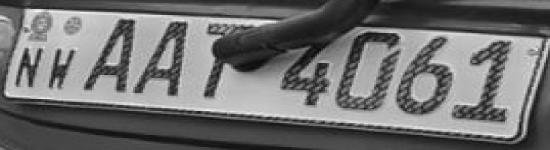0: (337, 28, 399, 115)
1: (452, 28, 524, 126)
4: (278, 27, 335, 109)
6: (399, 29, 457, 119)
A: (133, 16, 188, 99), (82, 17, 137, 93)
N: (12, 46, 44, 89)
T: (199, 20, 259, 101)
W: (46, 46, 78, 92)
